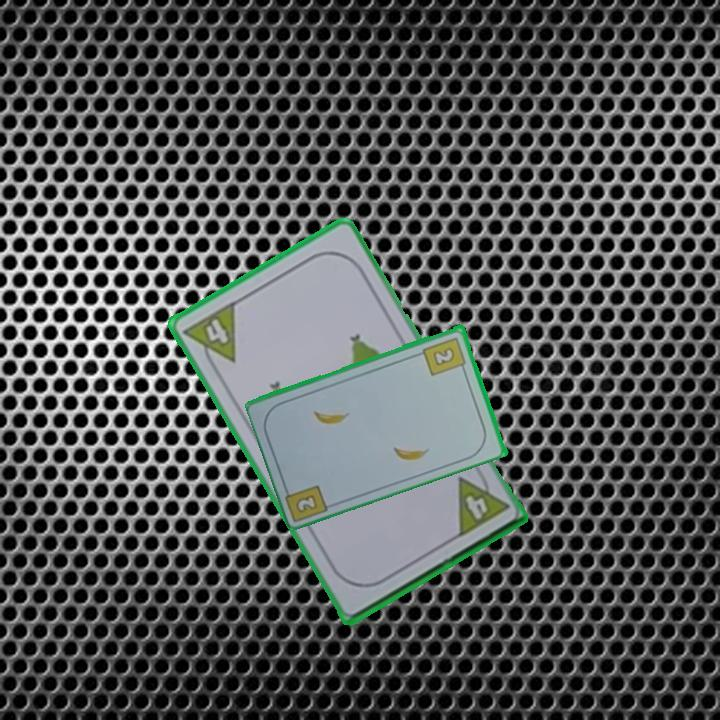2b: (420, 333, 469, 378), (292, 491, 321, 516)
4p: (179, 297, 239, 375), (453, 464, 512, 540)
